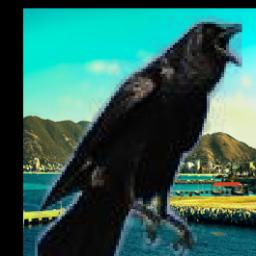Crow: (36, 16, 243, 256)
